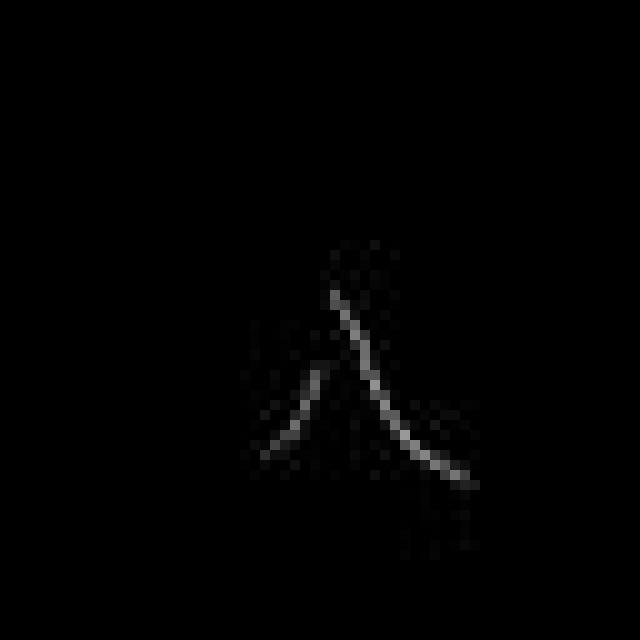8 -eight-: (247, 275, 474, 502)
